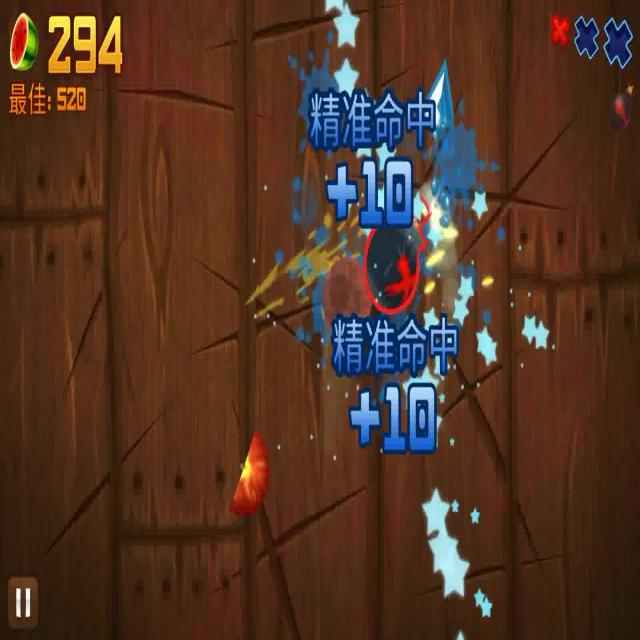bomb: (362, 196, 438, 312)
fruit: (324, 255, 368, 352), (232, 427, 272, 513)
